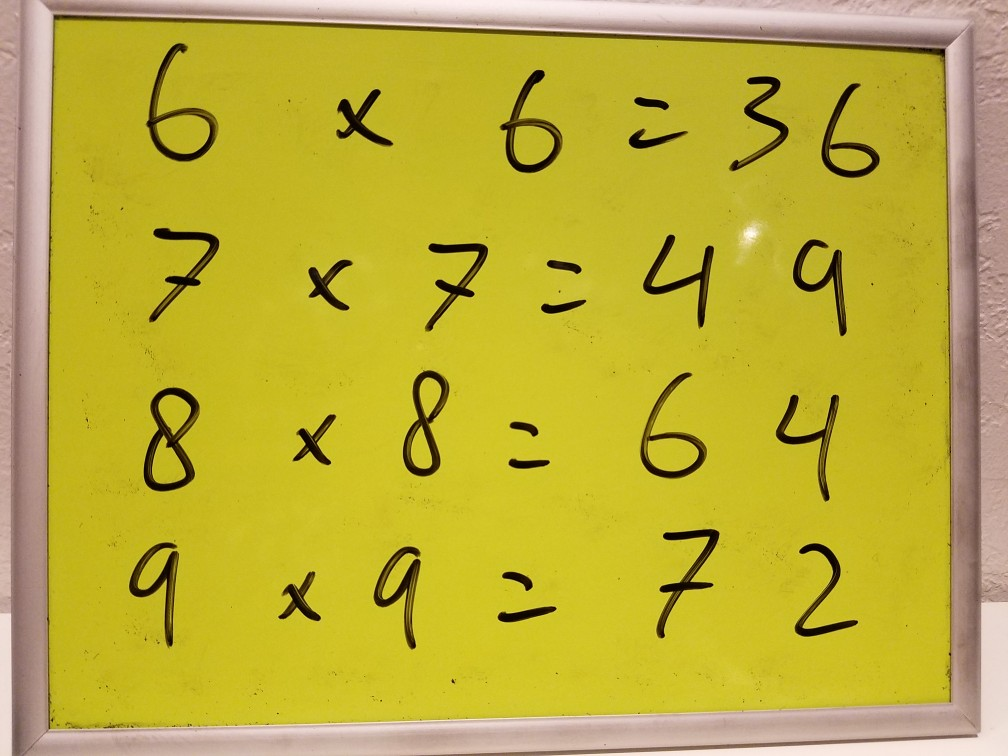2: (783, 535, 866, 651)
3: (724, 68, 794, 180)
4: (770, 381, 850, 507), (633, 226, 723, 335)
6: (139, 33, 224, 171), (628, 362, 721, 487), (492, 60, 568, 181), (811, 74, 887, 188)
7: (645, 515, 730, 648), (134, 215, 223, 330), (413, 228, 494, 338)
8: (132, 377, 210, 499), (393, 364, 456, 488)
9: (369, 536, 439, 662), (785, 233, 854, 345), (124, 538, 193, 648)
=: (488, 560, 570, 634), (618, 87, 692, 153), (492, 410, 559, 479), (532, 247, 592, 323)
x: (323, 83, 397, 154), (286, 404, 340, 476), (268, 564, 326, 630), (303, 251, 357, 316)
